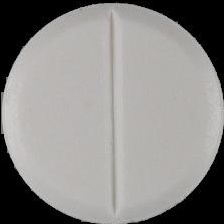21695-306: (0, 0, 224, 224)
